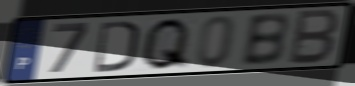0: (194, 13, 238, 70)
7: (47, 20, 93, 76)
B: (285, 7, 343, 66), (238, 11, 291, 68)
D: (92, 19, 141, 74)
Q: (138, 16, 193, 72)
